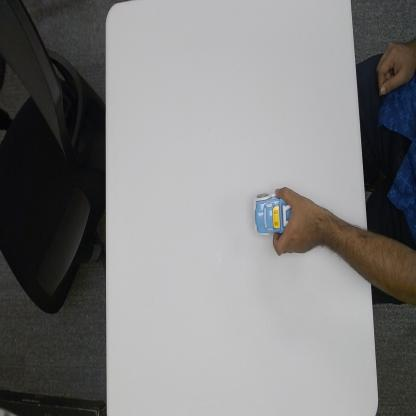Arm: (321, 207, 370, 282)
Car: (252, 190, 292, 236)
Hand: (273, 185, 319, 255)
